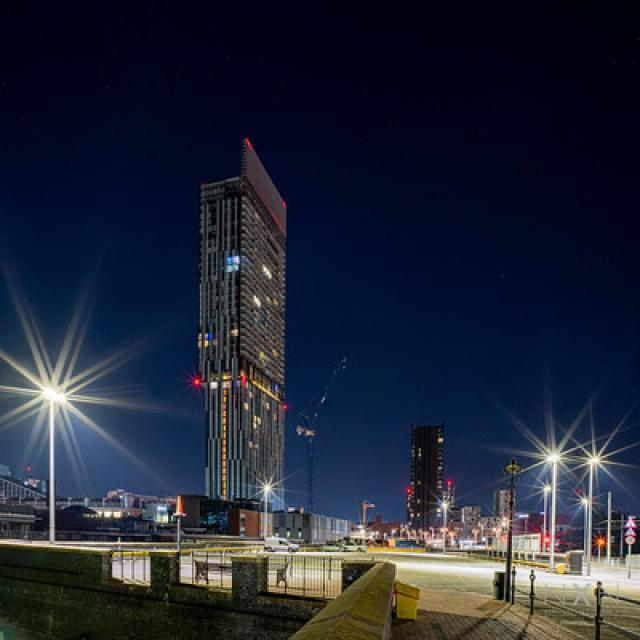Normal_building: (187, 134, 293, 512), (402, 418, 452, 536)
